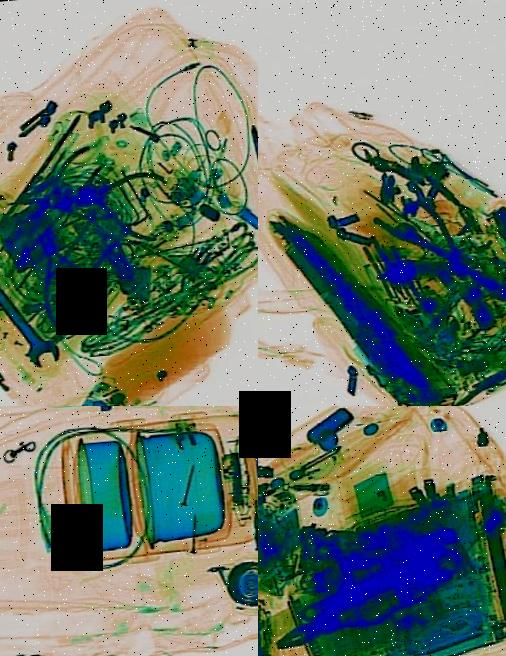Pliers: (365, 156, 500, 318), (260, 563, 407, 656), (12, 214, 109, 334), (72, 154, 173, 247), (16, 138, 114, 229)
Wrench: (0, 243, 62, 378)
